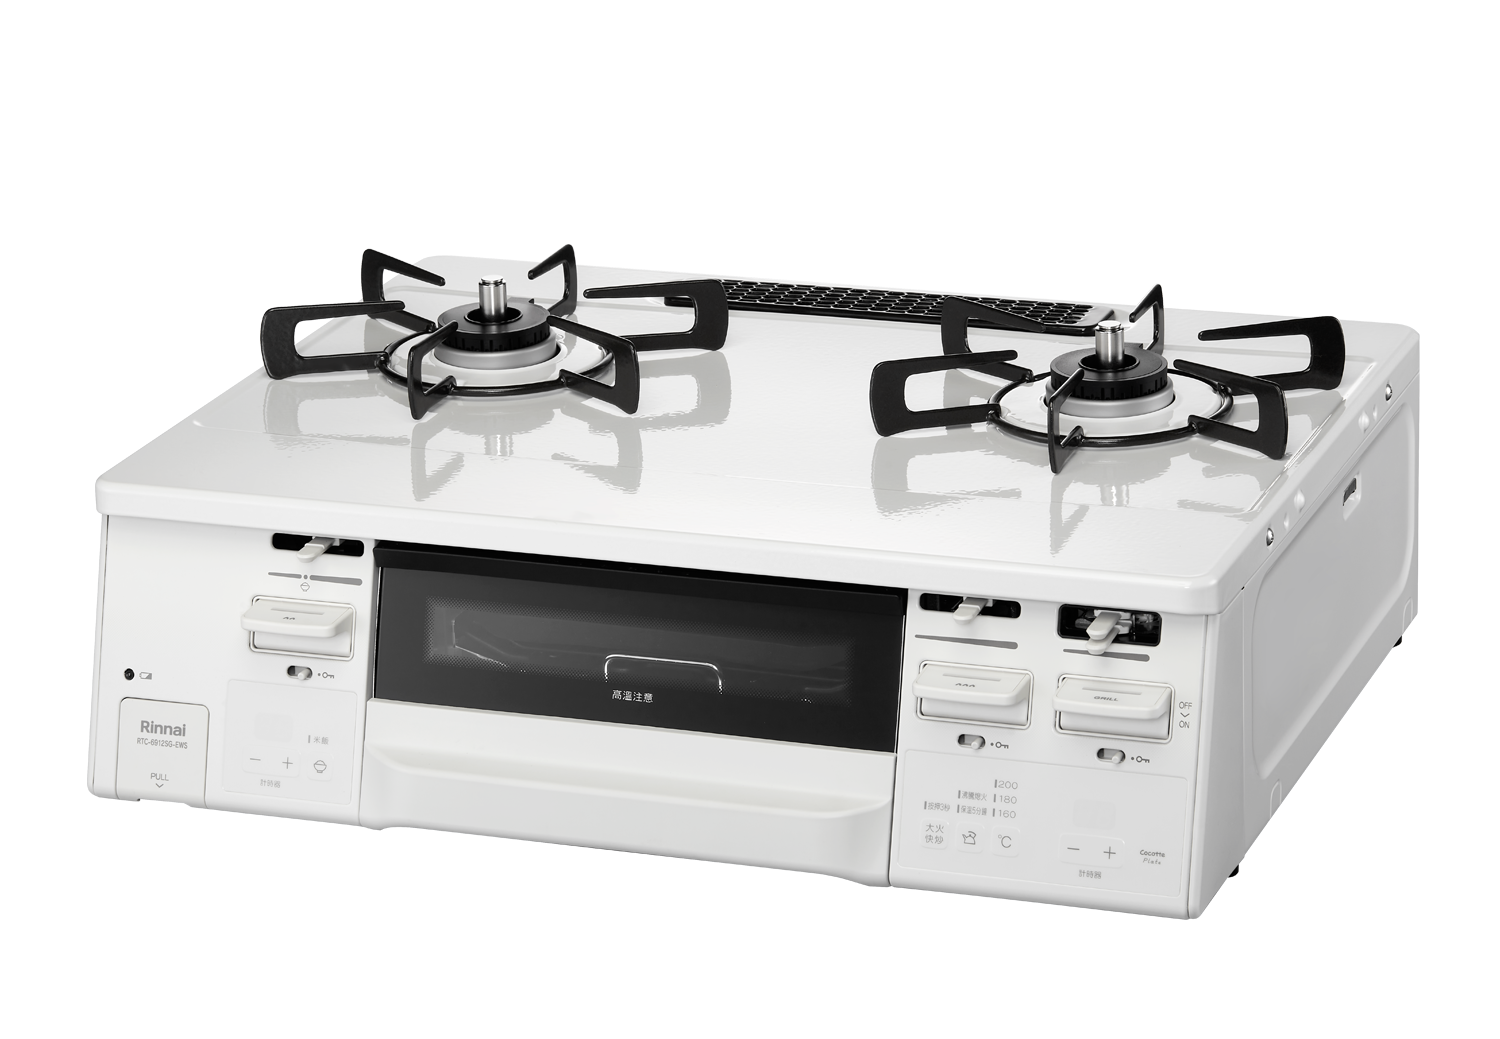gasoven: (75, 238, 1436, 928)
